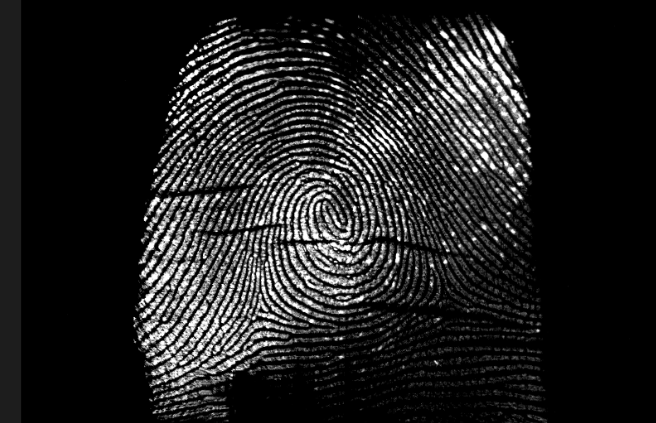deltas: (422, 269, 474, 318), (243, 287, 278, 329)
nucleo: (304, 189, 358, 245)
